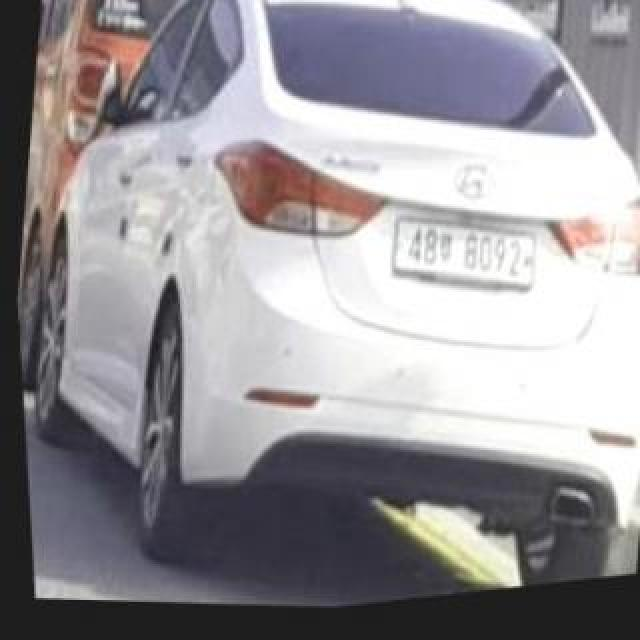car: (26, 0, 640, 602)
illegal_plate: (390, 214, 537, 298)
